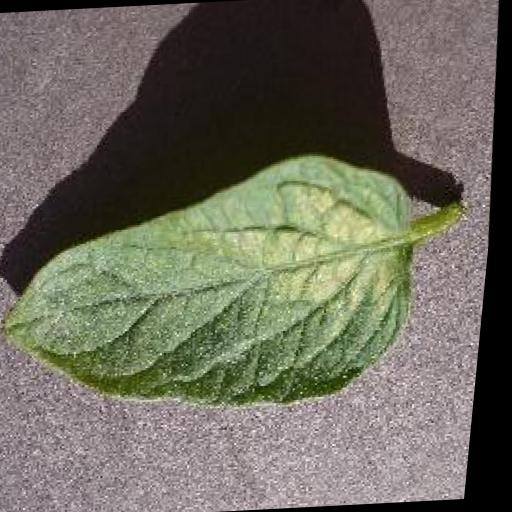Spider Mites: (0, 146, 436, 424)
